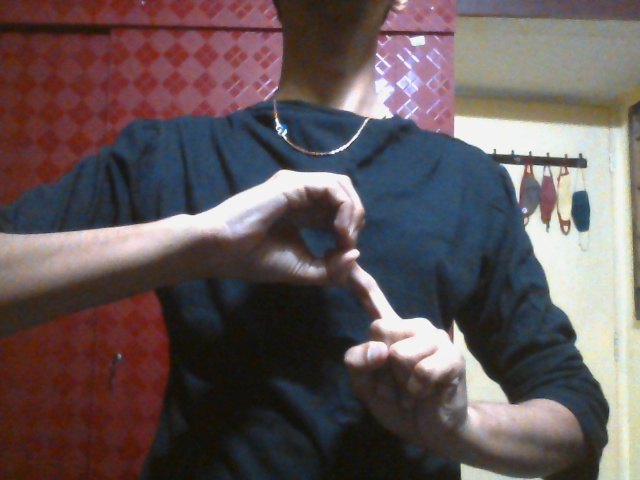Q: (222, 165, 468, 453)
